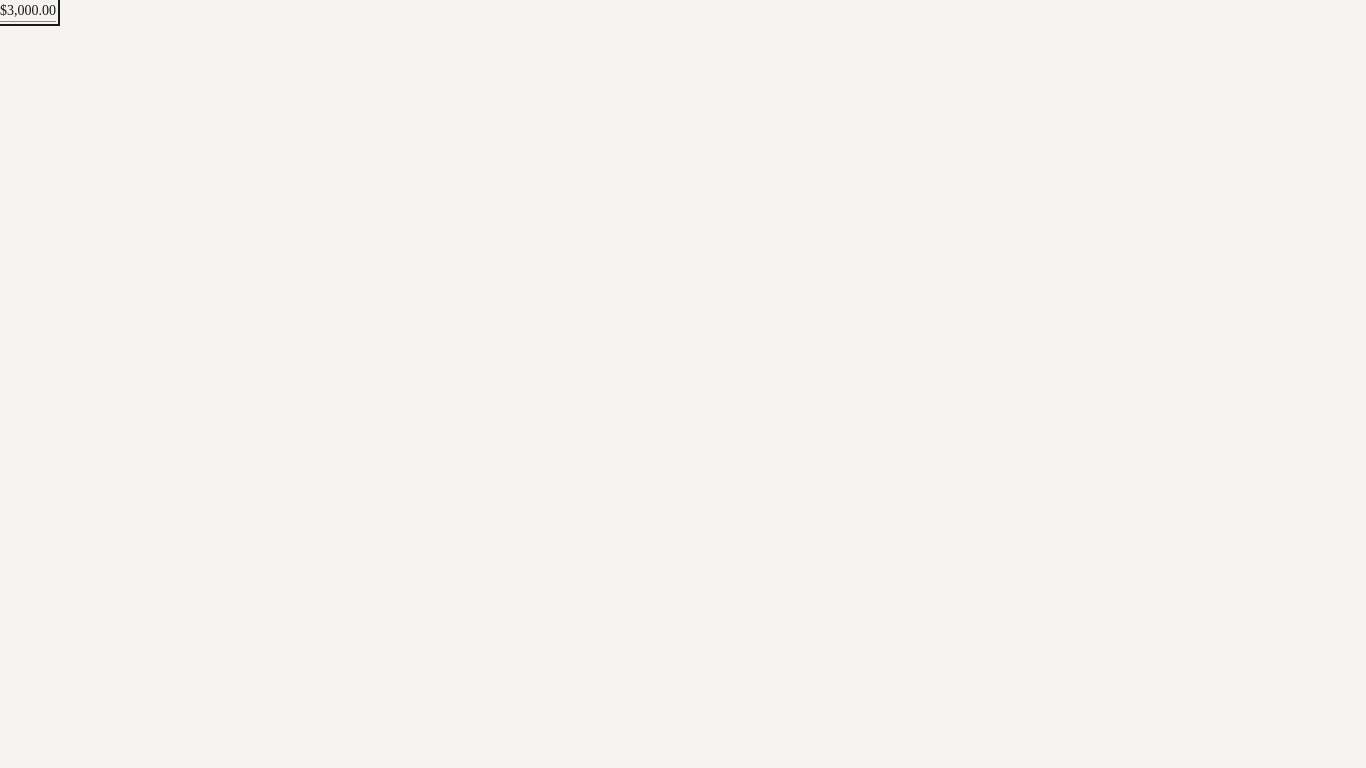
ExplicarProvider (panel premium) › cerrar con la X y los enlaces a paginas fuente existen y apuntan a rutas internas
What coordinates should you click on to do the following:
click the button with class "rtm-cifra"
I would click on:
 (28, 11)
Its box is left=0, top=0, right=56, bottom=22.
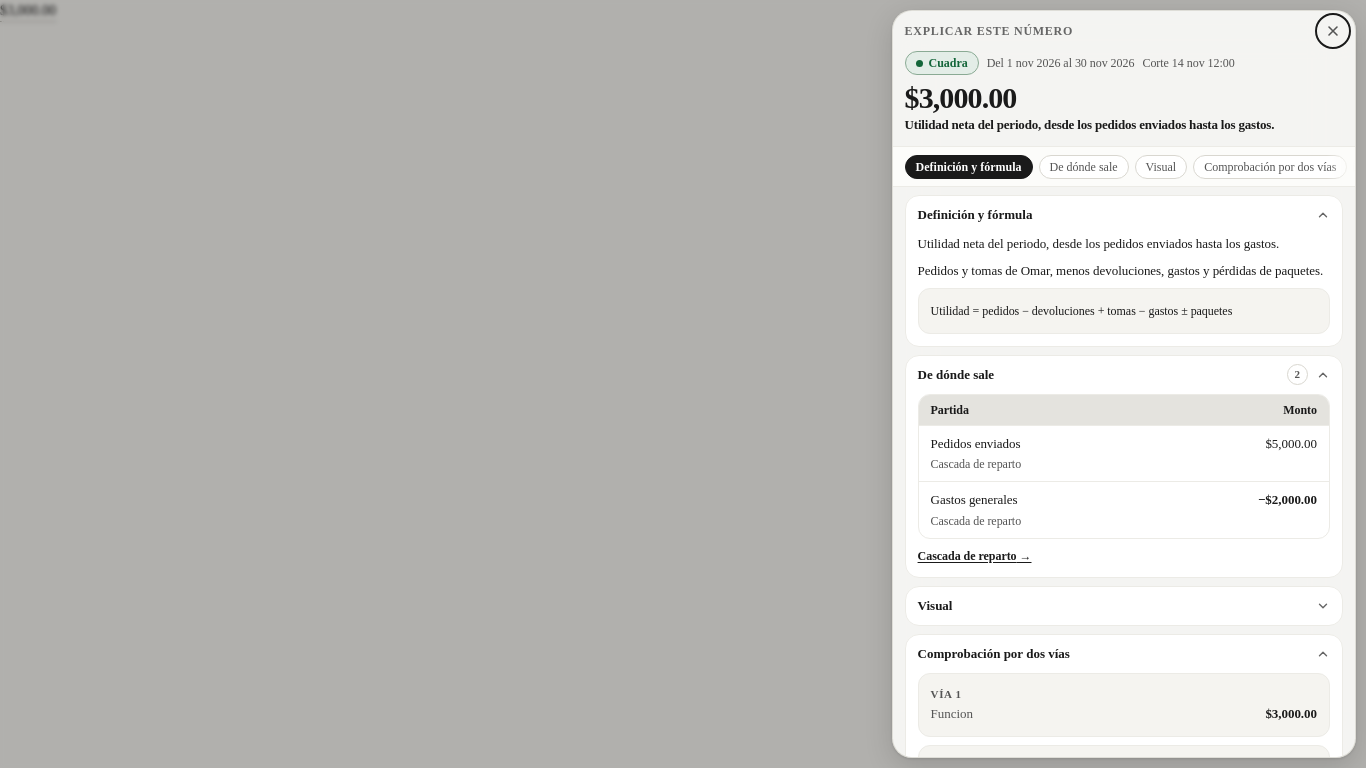
What coordinates should you click on to do the following:
click the button with class "xp-cerrar"
I would click on:
 (1333, 31)
Its box is left=1319, top=17, right=1347, bottom=45.
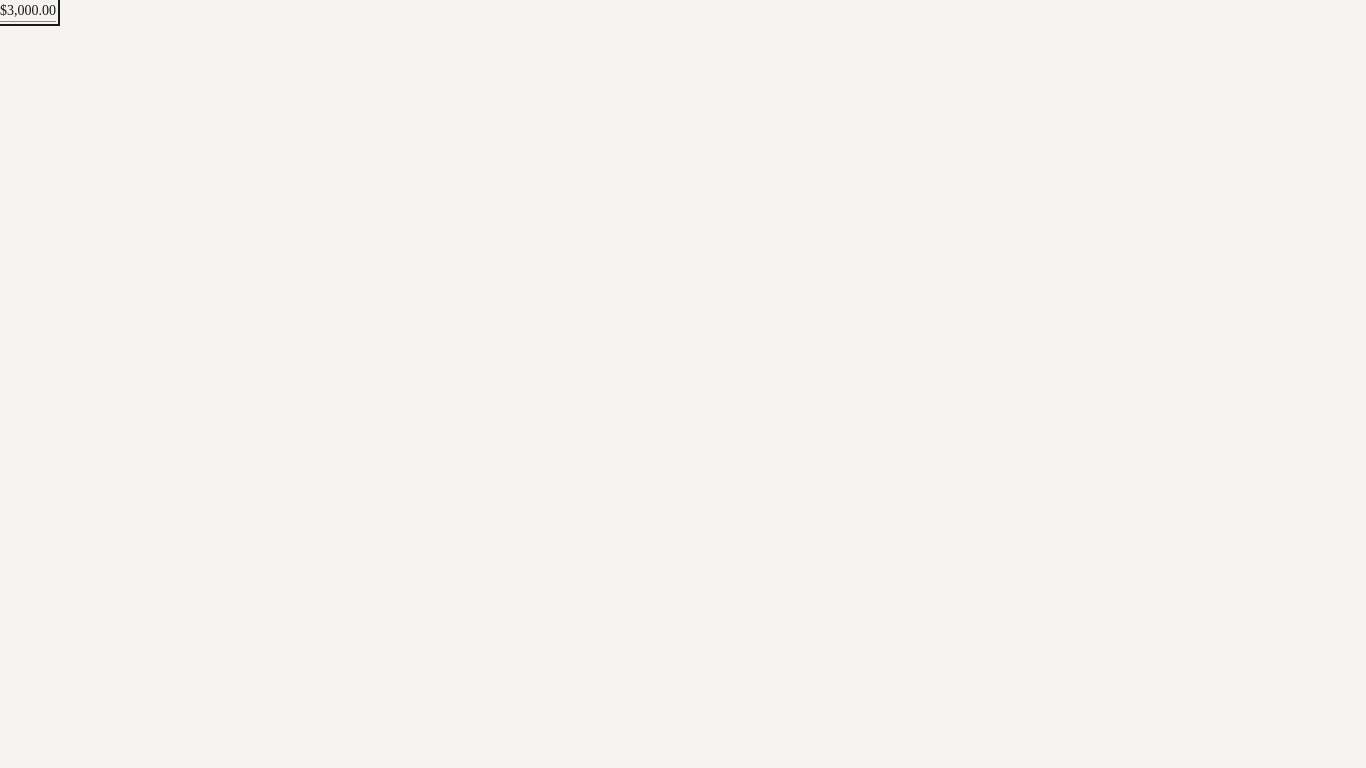
expect the dialog with test id "explicar-cajon" is gone: met
